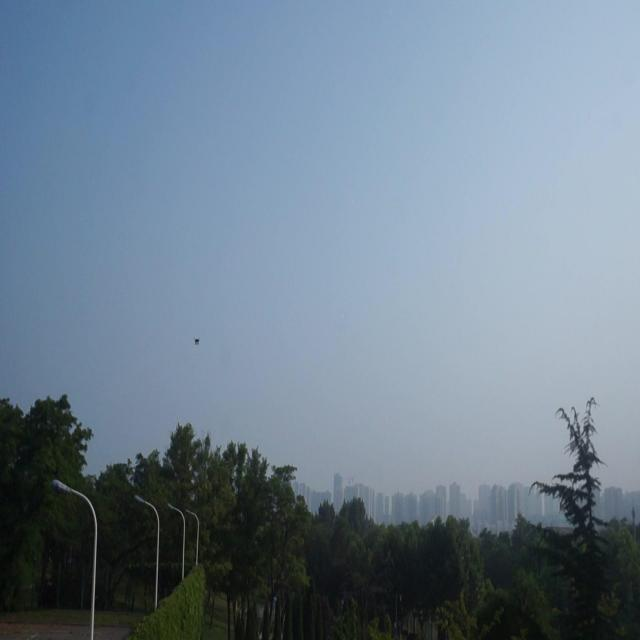UAV: (193, 337, 200, 346)
